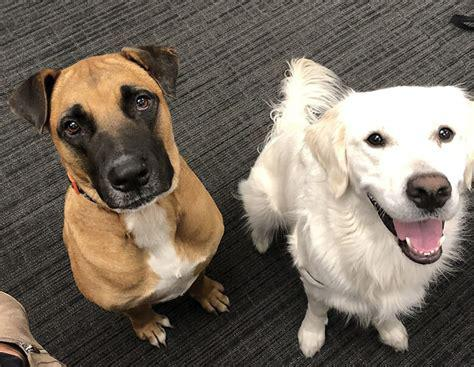dog: (240, 59, 474, 357), (8, 46, 228, 346)
